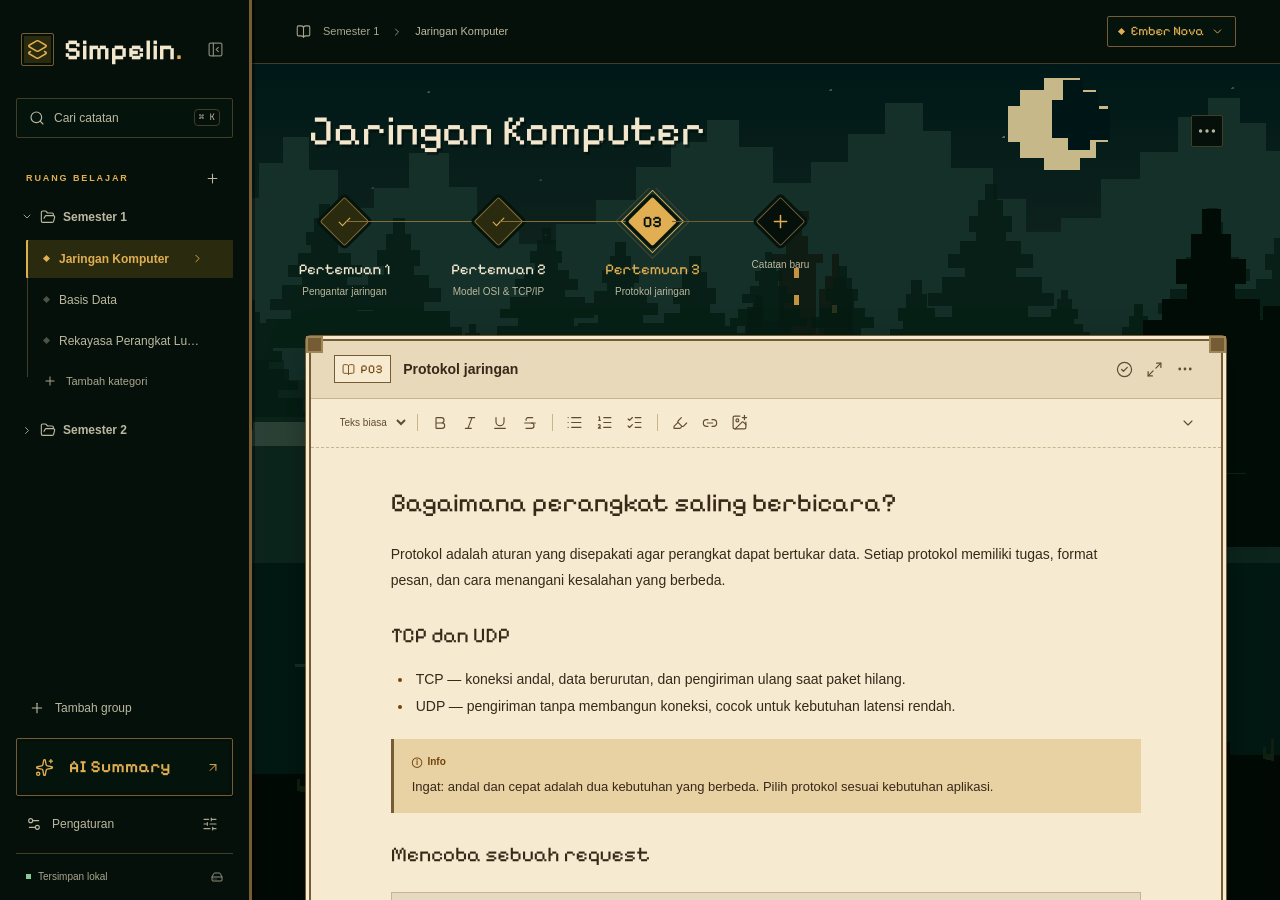
Scenario: actual application DOM and IndexedDB › creates material only at the terminal timeline control
Expected: the heading "Jaringan Komputer" is shown, [308, 108, 705, 154]
Click the button named "Tambah pertemuan": coordinates (781, 222) [756, 197, 805, 246]
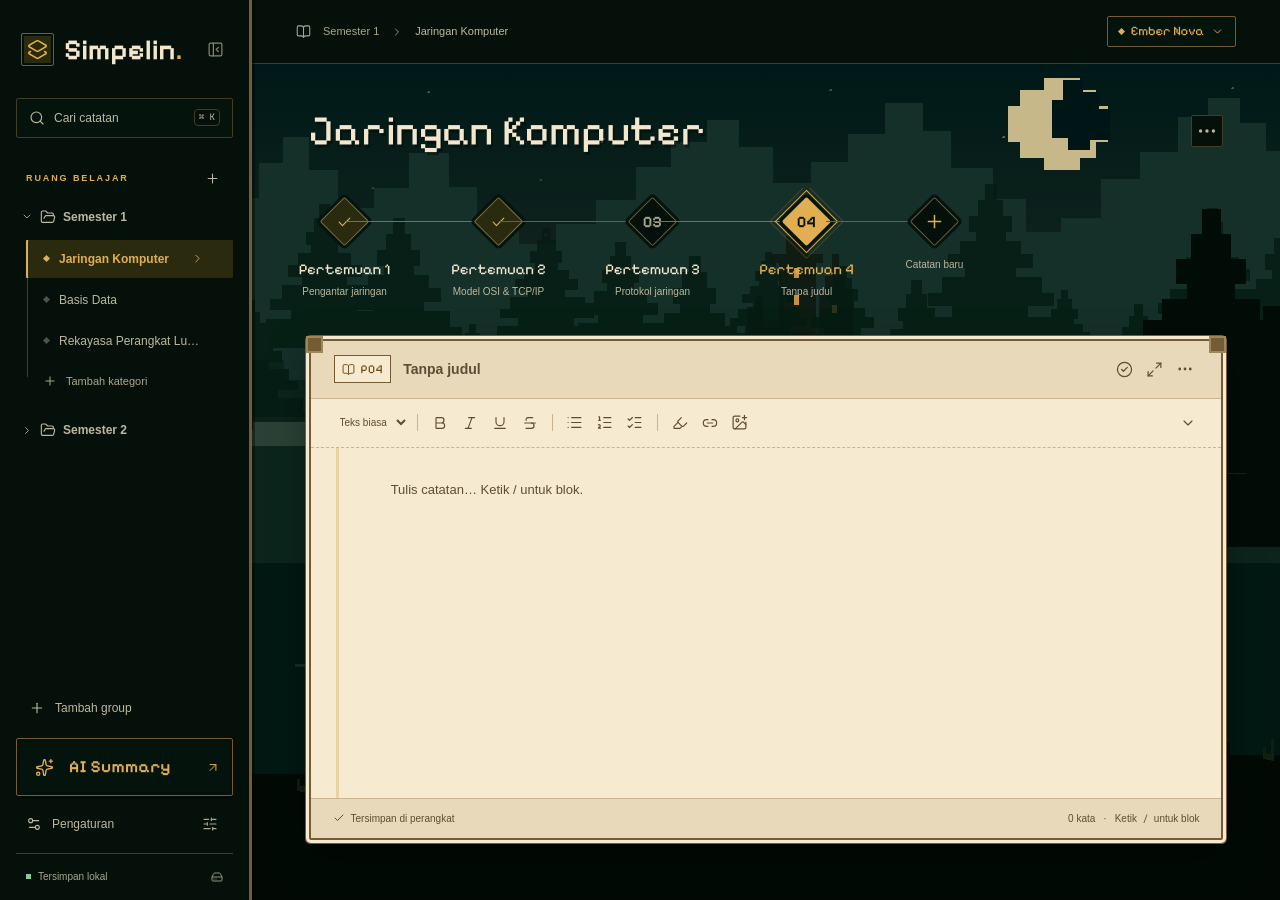
Now the field named "Judul catatan" is empty, box [403, 354, 1101, 384]
Now the button with aria-label "P4 · Tanpa judul" is shown, box [730, 204, 884, 298]
